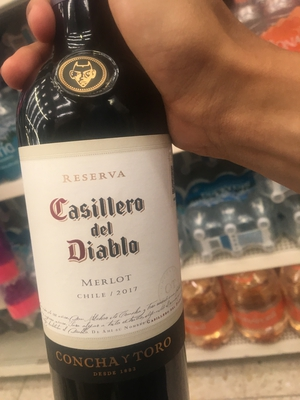casillero del diablo merlot: (19, 24, 196, 400)
